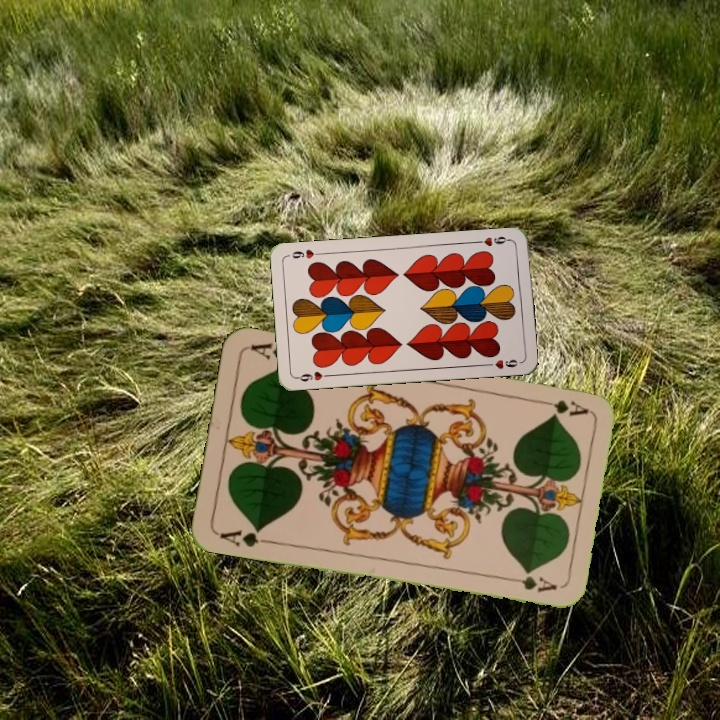GA: (215, 524, 274, 550), (532, 395, 591, 418)
H9: (293, 367, 333, 384), (473, 232, 513, 249)
